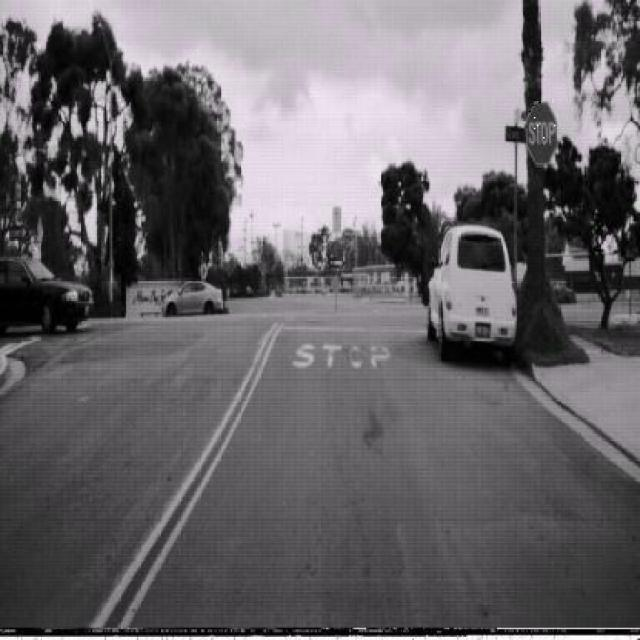stop: (526, 102, 558, 169)
